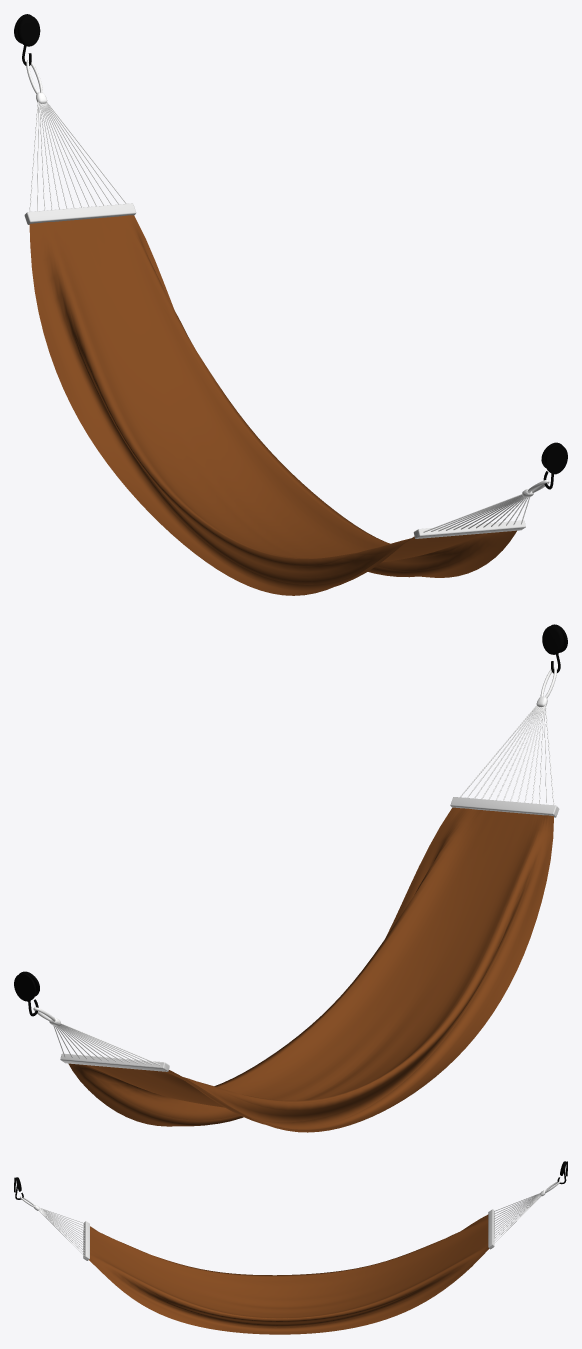
Rendered from hamaca.glb.
The picture shows the model from 3 angles, top to bottom: view 1: azimuth 30°, elevation 25°; view 2: azimuth 150°, elevation 25°; view 3: azimuth 270°, elevation 25°; orthographic projection. The views are drawn at different scales.
Parts seen in each view (by area): view 1: 01g5_rede_; view 2: 01g5_rede_; view 3: 01g5_rede_.
Boxes of the visible parts, x1,y1,x2,y2 form: 01g5_rede_: (14,14,567,595); 01g5_rede_: (14,624,567,1132); 01g5_rede_: (14,1161,567,1334).
Bounding box in the file's own units: 1.51 × 3.08 × 9.23.
